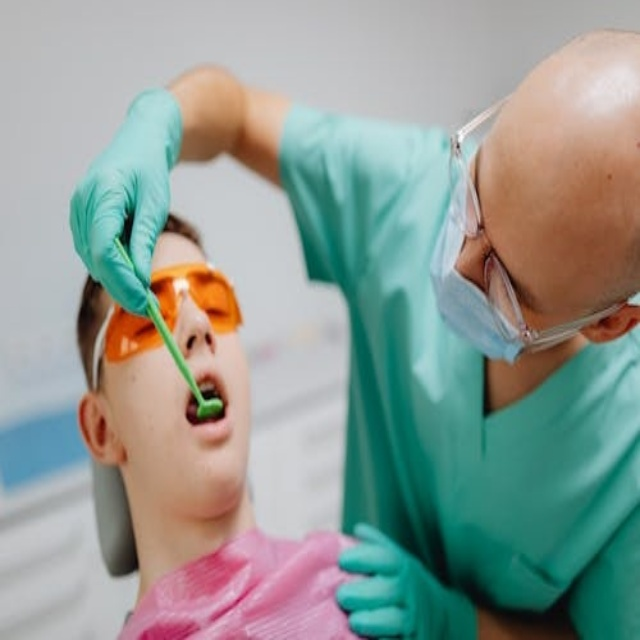Gafas: (442, 94, 638, 354), (95, 263, 244, 385)
Guantes: (69, 86, 183, 319), (336, 522, 477, 640)
Mascara: (429, 132, 530, 366)
Sin_mascara: (145, 367, 247, 482)
